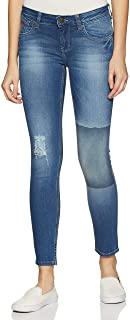jeans: (17, 2, 121, 268)
